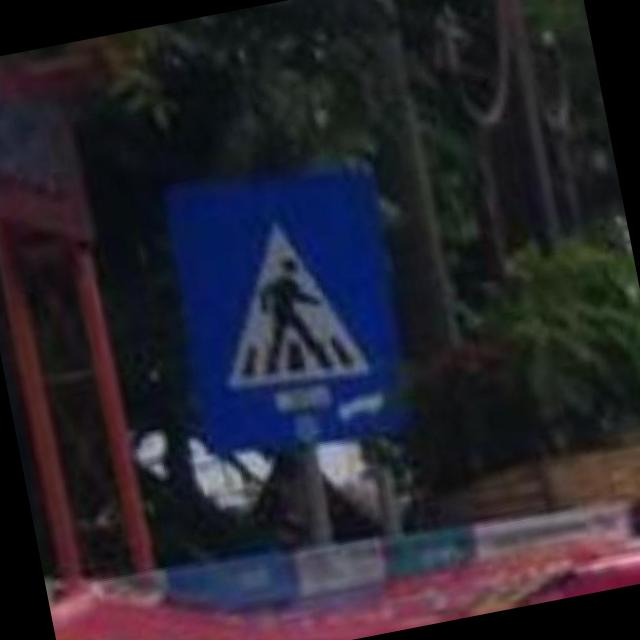crosswalk-sign: (150, 144, 430, 478)
